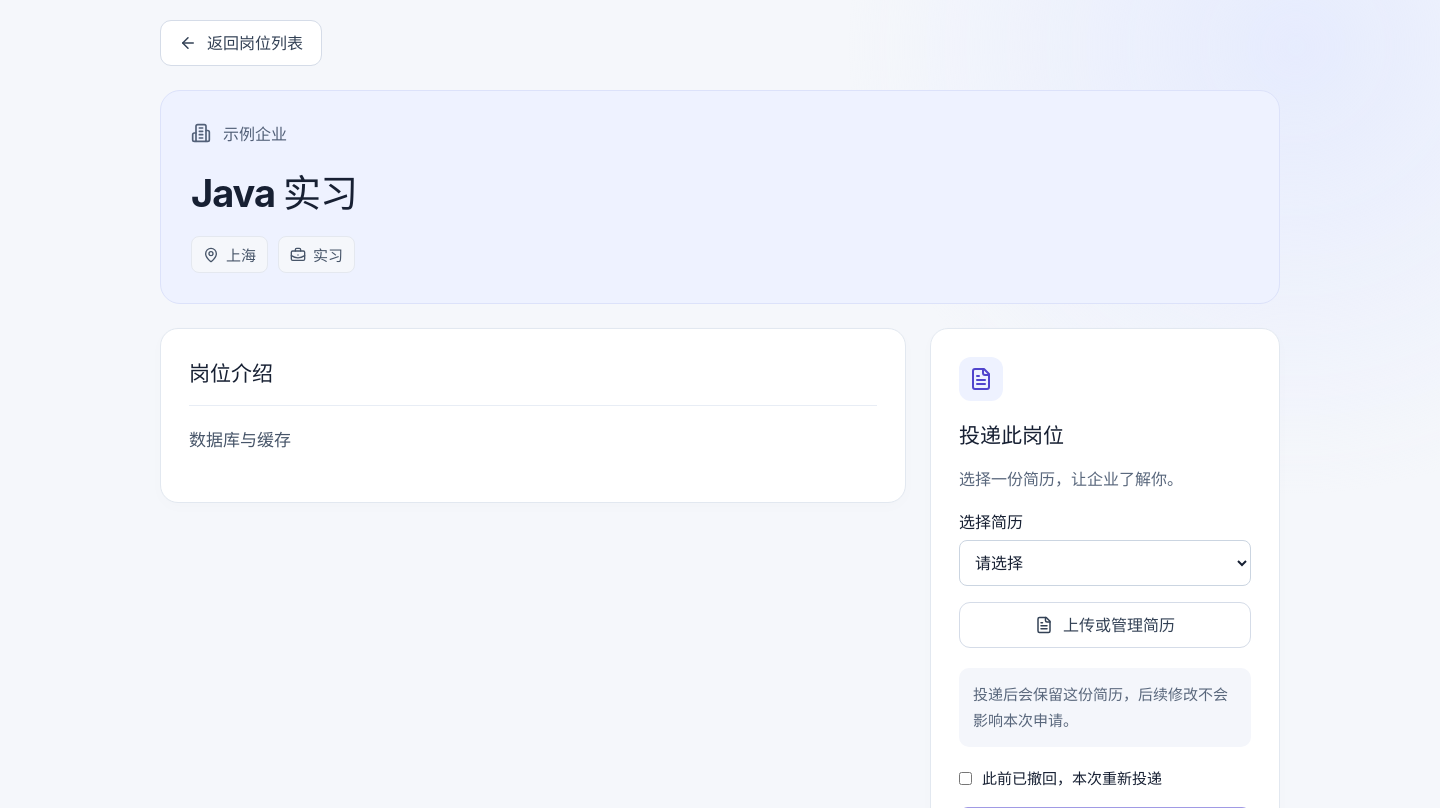
Test: recruitment foundation › submits the displayed published version and explicitly selected resume
The image size is (1440, 808).
Expected: the heading "Java 实习" is shown, [191,170,357,216]
Select "我的简历.txt" in the dropdown labelled "选择简历": (1105, 563) [959,540,1251,586]
(page scrolled)
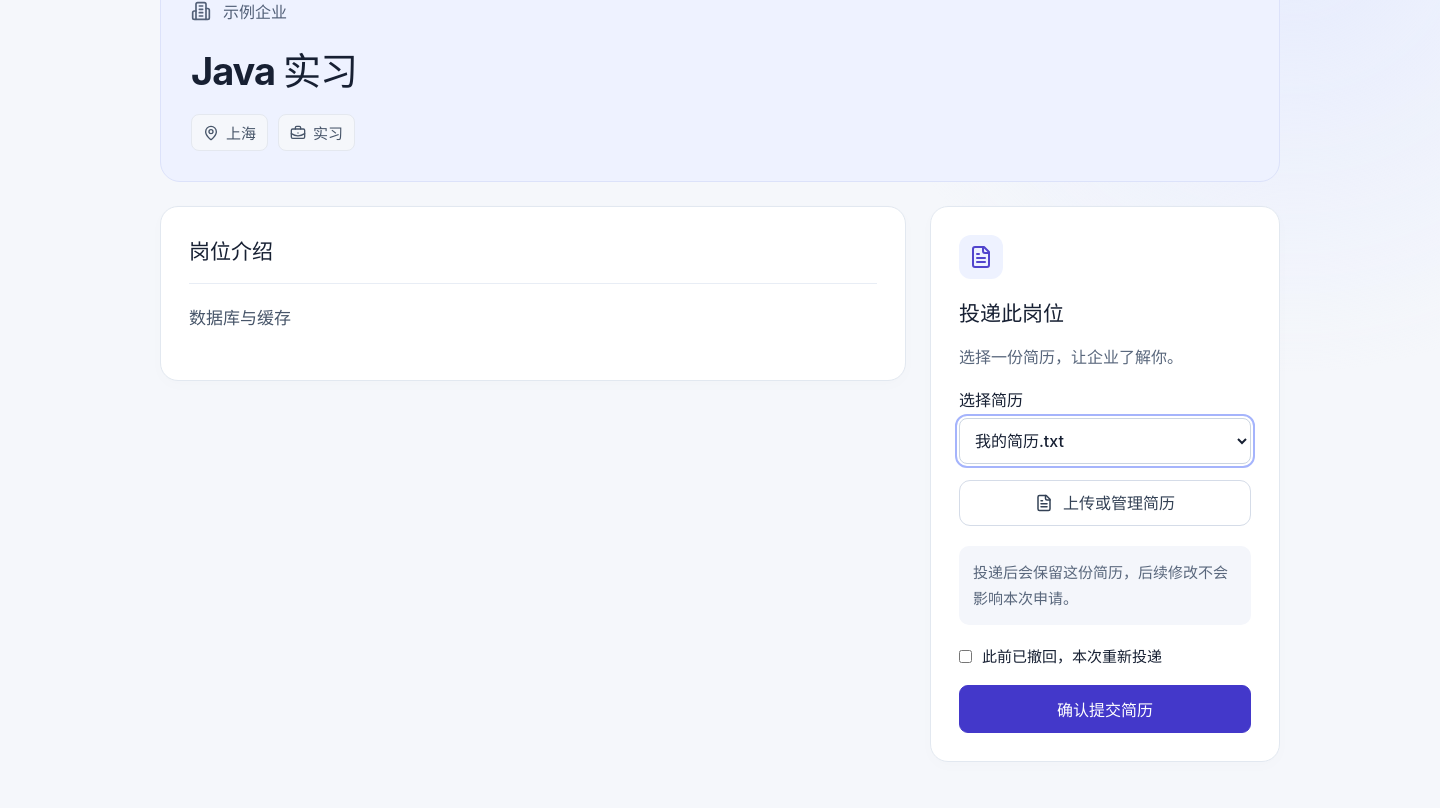
Click the button "确认提交简历": (1105, 709) [959,685,1251,733]
(page scrolled)
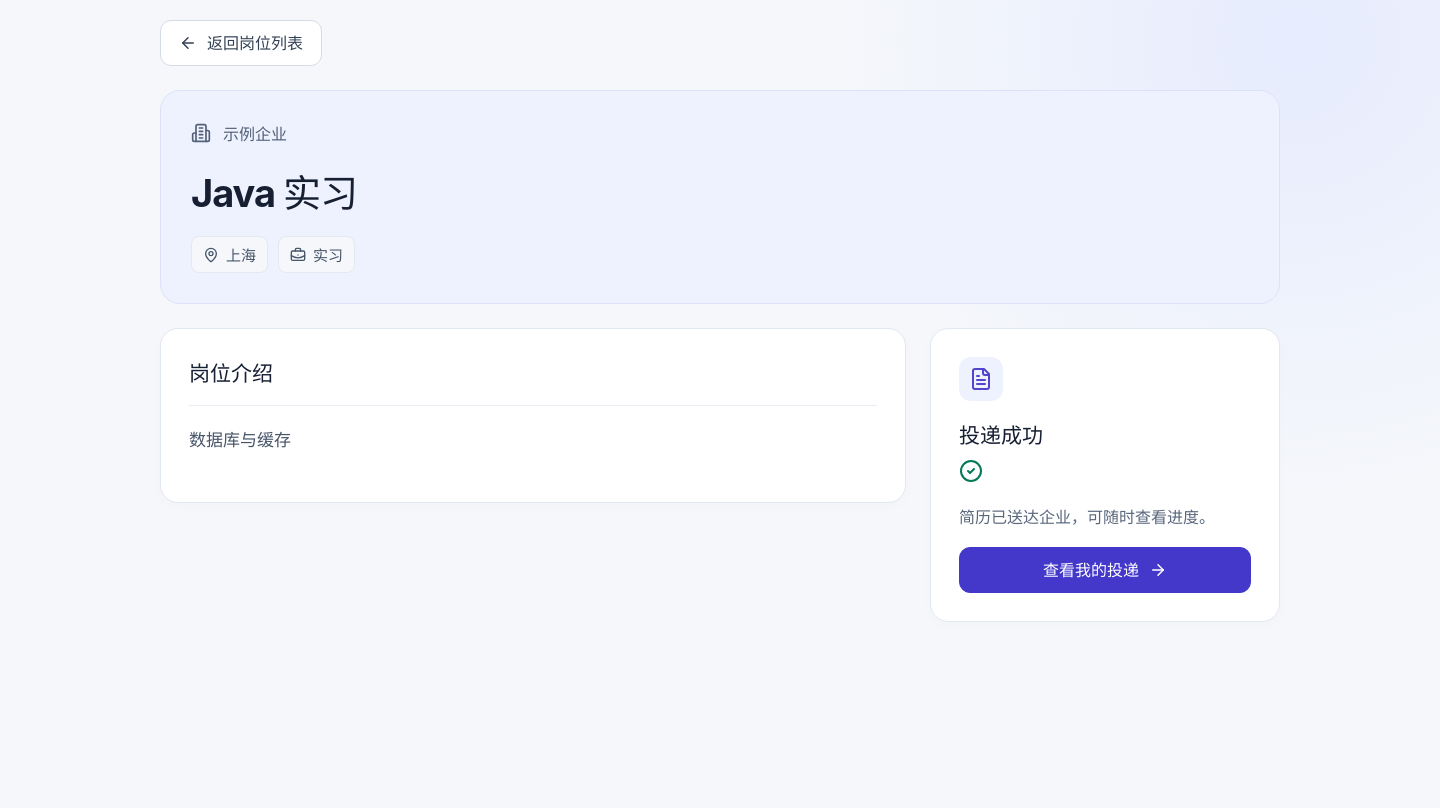
Expected: the message "简历已送达企业，可随时查看进度。 查看我的投递" is shown, [959,459,1251,593]
